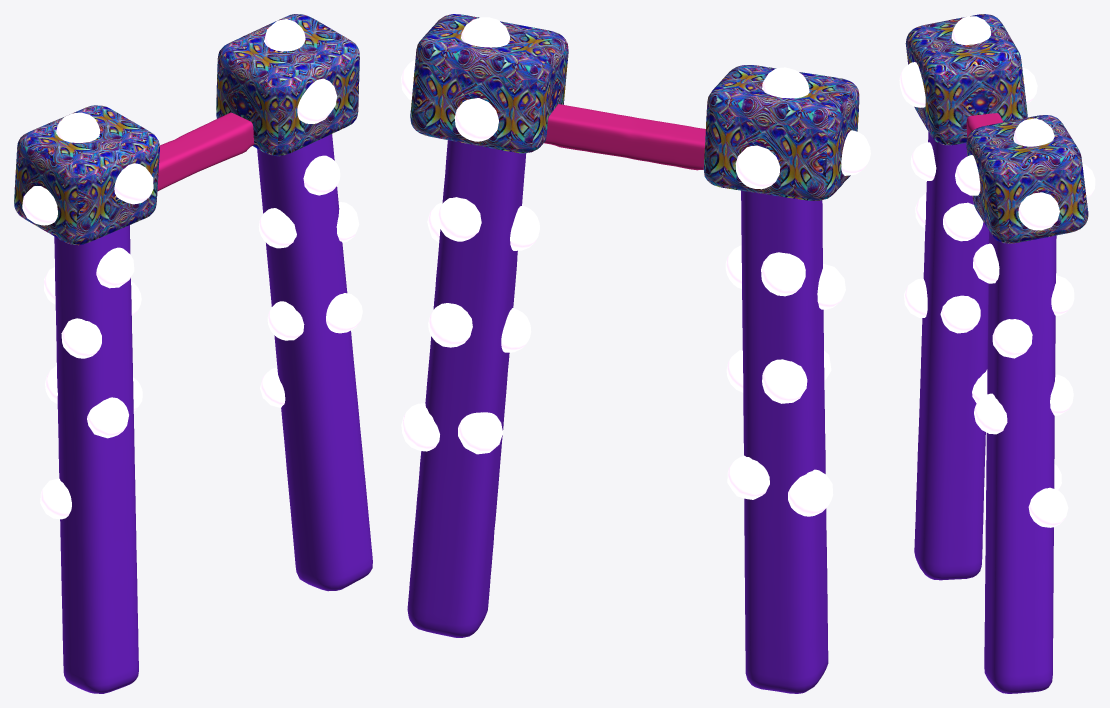
File: start.glb
3 views of the same model, side by side, from view 1: azimuth 30°, elevation 25°; view 2: azimuth 150°, elevation 25°; view 3: azimuth 270°, elevation 25° (orthographic). The views are drawn at different scales.
Parts seen in each view (by area): view 1: Retopo_inst_12; view 2: Retopo_inst_12; view 3: Retopo_inst_12.
Part boxes in pixels (left/top/right/bottom): Retopo_inst_12: left=14, top=14, right=372, bottom=693; Retopo_inst_12: left=401, top=14, right=870, bottom=693; Retopo_inst_12: left=899, top=14, right=1095, bottom=693.
Size of the model in its own units: 11.92 by 17.42 by 5.54.
Materials: 4 (1 with a texture image).
